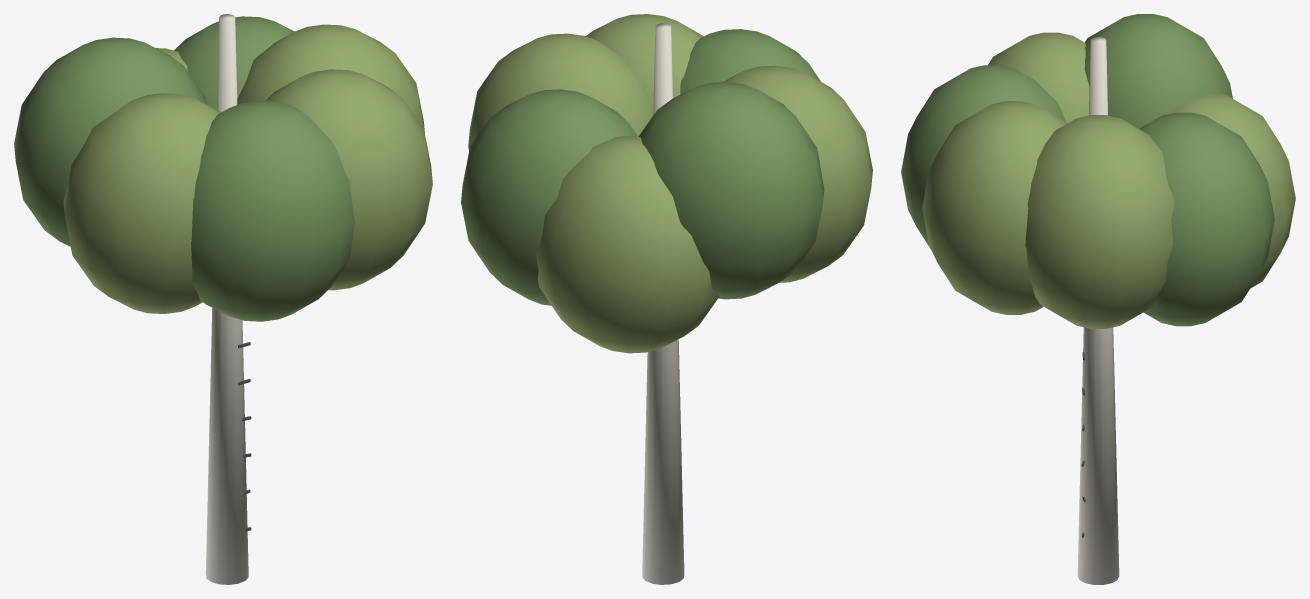
Rendered from Tree_Birch_01_LOD0.fbx.
3 views of the same model, side by side, from view 1: azimuth 30°, elevation 25°; view 2: azimuth 150°, elevation 25°; view 3: azimuth 270°, elevation 25° (orthographic). The views are drawn at different scales.
Parts seen in each view (by area): view 1: Tree_Birch_01_OPT_Merged_ENV_Leaf_Light_OPT_DATA, Tree_Birch_01_OPT_Merged_ENV_Leaf_Sage_OPT_DATA, Tree_Birch_01_OPT_Merged_ENV_Birch_Bark_OPT_DATA; view 2: Tree_Birch_01_OPT_Merged_ENV_Leaf_Light_OPT_DATA, Tree_Birch_01_OPT_Merged_ENV_Leaf_Sage_OPT_DATA, Tree_Birch_01_OPT_Merged_ENV_Birch_Bark_OPT_DATA; view 3: Tree_Birch_01_OPT_Merged_ENV_Leaf_Light_OPT_DATA, Tree_Birch_01_OPT_Merged_ENV_Leaf_Sage_OPT_DATA, Tree_Birch_01_OPT_Merged_ENV_Birch_Bark_OPT_DATA.
Boxes of the visible parts, <box> form: Tree_Birch_01_OPT_Merged_ENV_Leaf_Light_OPT_DATA: <box>63,24,432,313</box>; Tree_Birch_01_OPT_Merged_ENV_Leaf_Sage_OPT_DATA: <box>14,16,355,321</box>; Tree_Birch_01_OPT_Merged_ENV_Birch_Bark_OPT_DATA: <box>205,14,248,584</box>; Tree_Birch_01_OPT_Merged_ENV_Leaf_Light_OPT_DATA: <box>468,14,872,353</box>; Tree_Birch_01_OPT_Merged_ENV_Leaf_Sage_OPT_DATA: <box>461,29,824,305</box>; Tree_Birch_01_OPT_Merged_ENV_Birch_Bark_OPT_DATA: <box>642,23,684,584</box>; Tree_Birch_01_OPT_Merged_ENV_Leaf_Light_OPT_DATA: <box>922,32,1295,328</box>; Tree_Birch_01_OPT_Merged_ENV_Leaf_Sage_OPT_DATA: <box>901,14,1274,326</box>; Tree_Birch_01_OPT_Merged_ENV_Birch_Bark_OPT_DATA: <box>1077,37,1119,584</box>.
Size of the model in its own units: 462 by 680 by 454.
